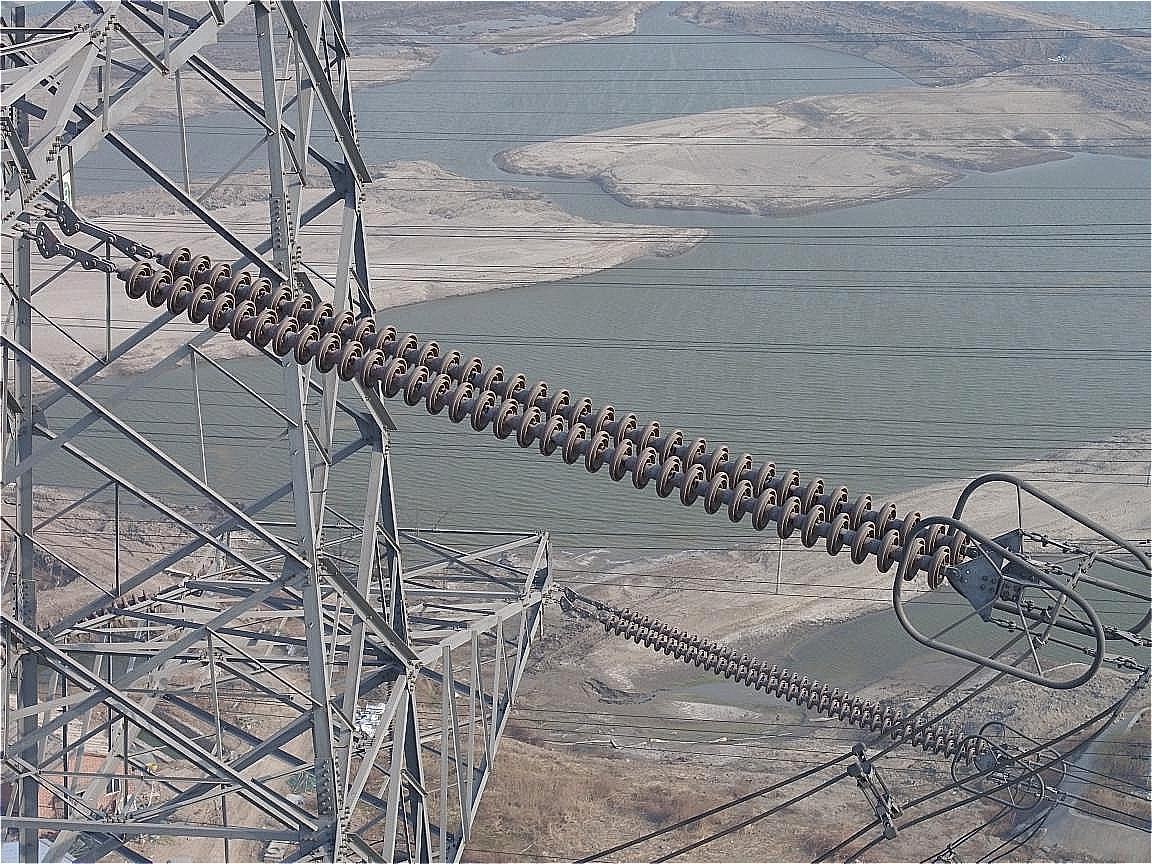insultor1: (87, 232, 1005, 594), (581, 599, 1023, 776)
